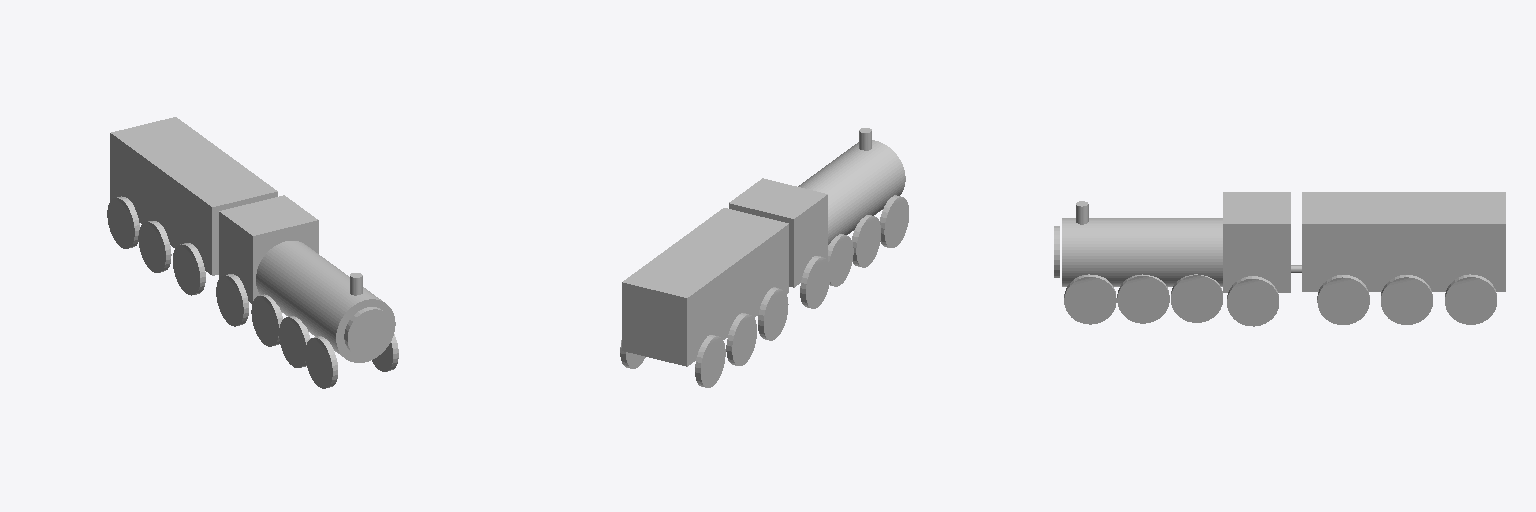
Rendered from BlueTrain.obj.
The picture shows the model from 3 angles: view 1: azimuth 30°, elevation 25°; view 2: azimuth 150°, elevation 25°; view 3: azimuth 270°, elevation 25°; orthographic projection.
Visible parts, largest first — view 1: Cylinder.007_Cylinder.003; view 2: Cylinder.007_Cylinder.003; view 3: Cylinder.007_Cylinder.003.
Part boxes in pixels (left/top/right/bottom): Cylinder.007_Cylinder.003: left=107, top=117, right=398, bottom=388; Cylinder.007_Cylinder.003: left=620, top=128, right=908, bottom=387; Cylinder.007_Cylinder.003: left=1054, top=192, right=1505, bottom=326.
Bounding box in the file's own units: 2.94 × 3.63 × 14.1.